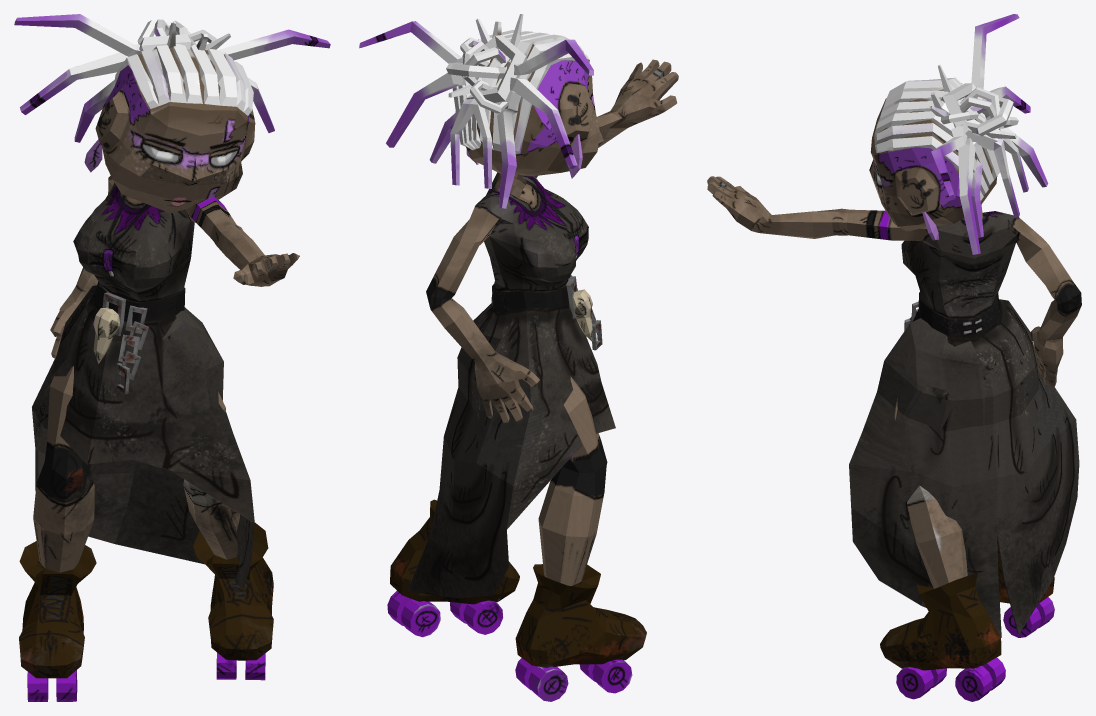
Rendered from bruja_000028.obj.
The picture shows the model from 3 angles, left to right: view 1: azimuth 30°, elevation 25°; view 2: azimuth 150°, elevation 25°; view 3: azimuth 270°, elevation 25°; orthographic projection. The views are drawn at different scales.
Visible parts, largest first — view 1: Bruja_Plane.001; view 2: Bruja_Plane.001; view 3: Bruja_Plane.001.
Part boxes in pixels (x1,y1,x2,y2): Bruja_Plane.001: [14, 14, 330, 701]; Bruja_Plane.001: [359, 14, 678, 701]; Bruja_Plane.001: [707, 14, 1081, 701].
Size of the model in its own units: 7.74 by 16.39 by 9.14.
